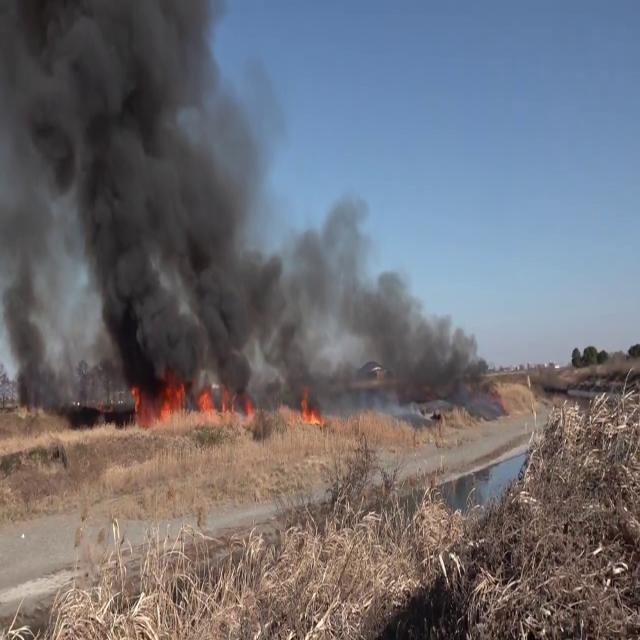Fire: (127, 362, 241, 430), (297, 382, 325, 430)
Smoke: (0, 1, 258, 398), (252, 185, 500, 407)
